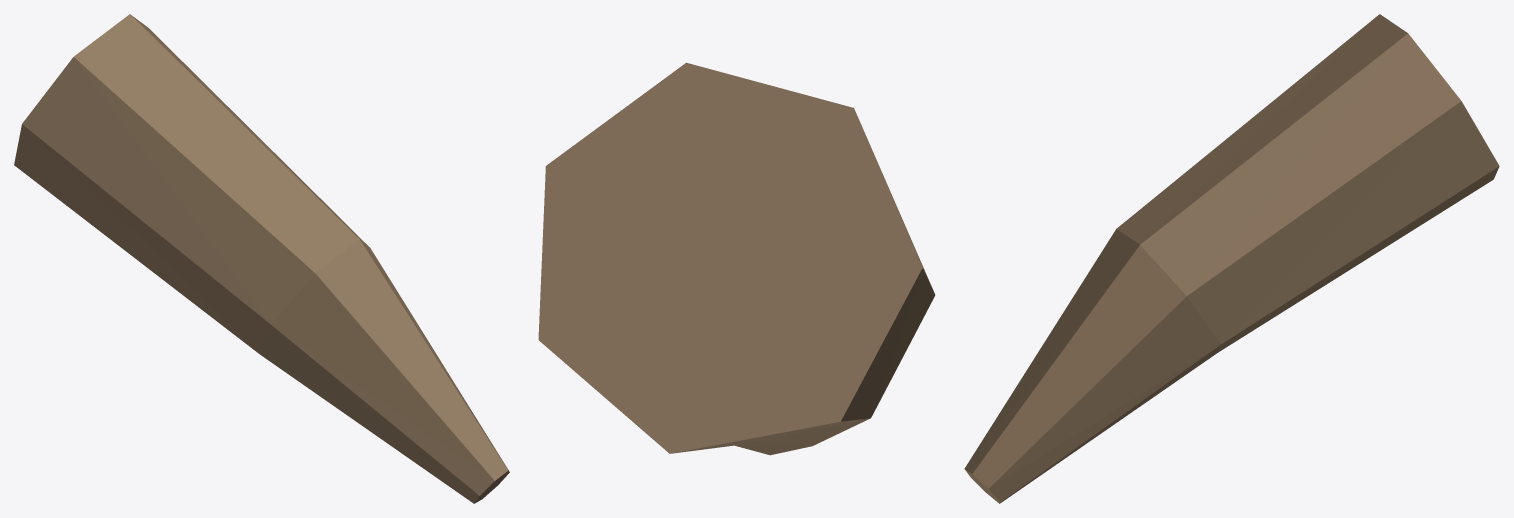
The model's file is chimera_c_tail.obj.
3 views of the same model, side by side, from view 1: azimuth 30°, elevation 25°; view 2: azimuth 150°, elevation 25°; view 3: azimuth 270°, elevation 25° (orthographic). The views are drawn at different scales.
Parts seen in each view (by area): view 1: chimera_c_tail; view 2: chimera_c_tail; view 3: chimera_c_tail.
Part boxes in pixels (<box>): chimera_c_tail: <box>14,14,509,503</box>; chimera_c_tail: <box>538,62,935,455</box>; chimera_c_tail: <box>964,14,1499,503</box>.
Size of the model in its own units: 0.3337 by 0.4156 by 0.5141.
